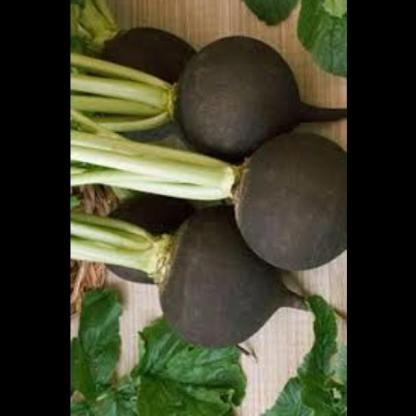redka: (150, 200, 295, 352), (163, 34, 306, 168), (230, 128, 346, 276), (89, 27, 192, 129), (93, 190, 186, 286)
